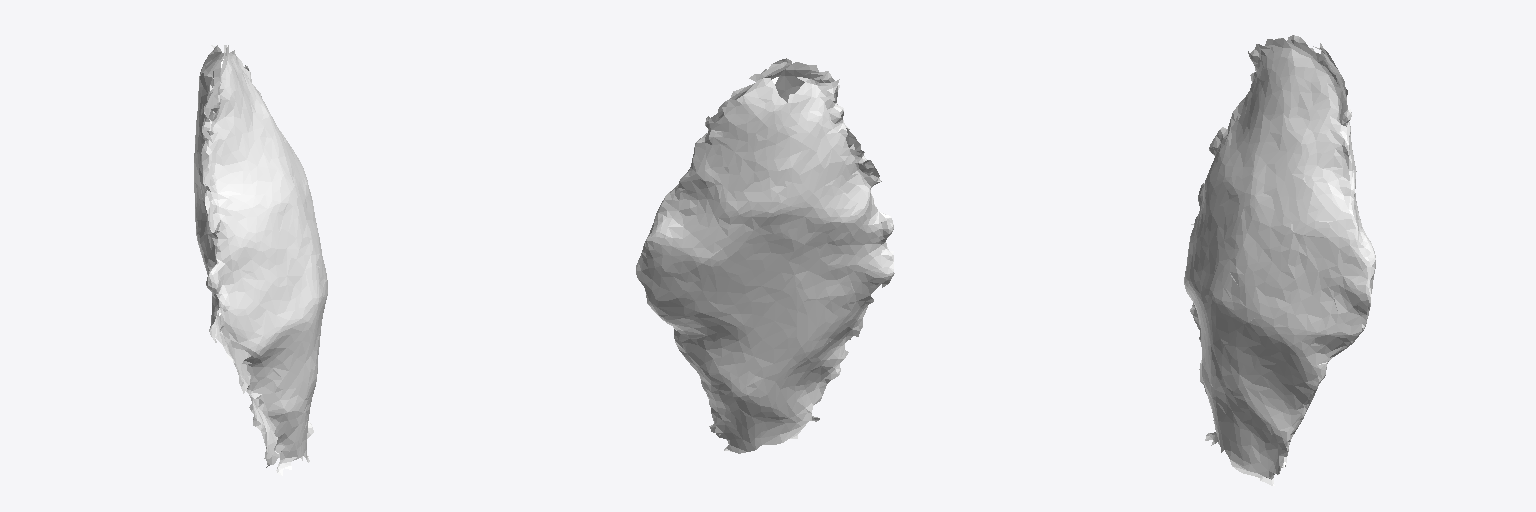
Rendered from pc492real.obj.
The picture shows the model from 3 angles: view 1: azimuth 30°, elevation 25°; view 2: azimuth 150°, elevation 25°; view 3: azimuth 270°, elevation 25°; orthographic projection.
Visible parts, largest first — view 1: pc492; view 2: pc492; view 3: pc492.
Part boxes in pixels (left/top/right/bottom): pc492: left=194, top=45, right=327, bottom=475; pc492: left=636, top=58, right=894, bottom=453; pc492: left=1184, top=35, right=1375, bottom=485.
Bounding box in the file's own units: 0.2009 × 0.4598 × 0.1914.